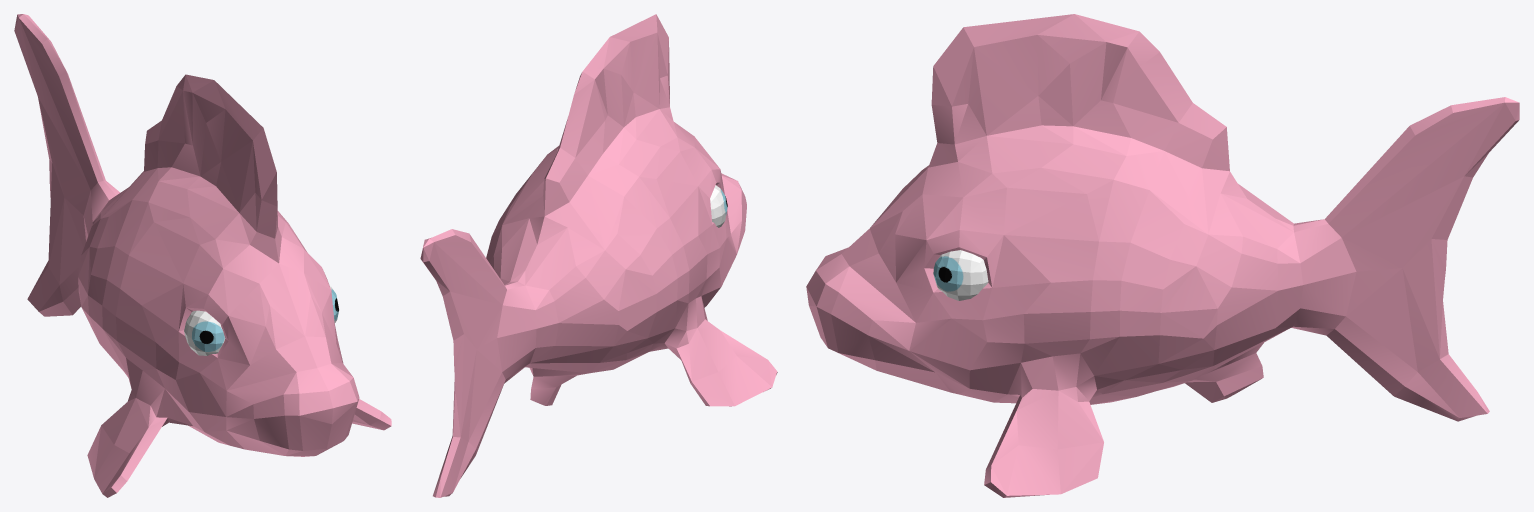
File: tempfishTex.fbx
The picture shows the model from 3 angles, left to right: view 1: azimuth 30°, elevation 25°; view 2: azimuth 150°, elevation 25°; view 3: azimuth 270°, elevation 25°; orthographic projection. The views are drawn at different scales.
Parts seen in each view (by area): view 1: Group34294, polySurface2; view 2: Group34294, polySurface2; view 3: Group34294, polySurface2.
Boxes of the visible parts, bbox=[...] form: Group34294: bbox=[14, 14, 391, 497]; polySurface2: bbox=[184, 285, 338, 355]; Group34294: bbox=[420, 14, 777, 497]; polySurface2: bbox=[710, 185, 727, 227]; Group34294: bbox=[806, 14, 1519, 497]; polySurface2: bbox=[933, 250, 988, 300].
Bounding box in the file's own units: 1.56 × 1.92 × 3.01.
2 materials, 2 textured.
